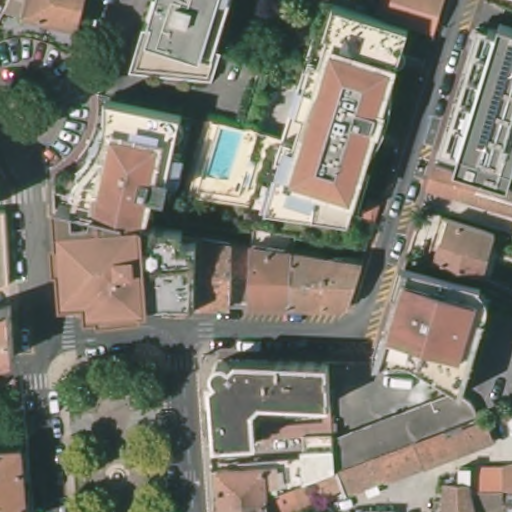pool: (205, 127, 245, 183)
